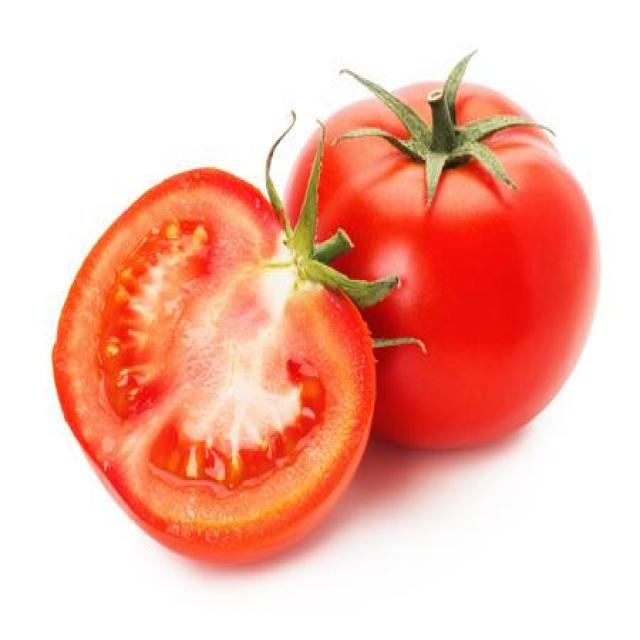Tomato: (53, 163, 393, 564), (293, 78, 601, 460)
